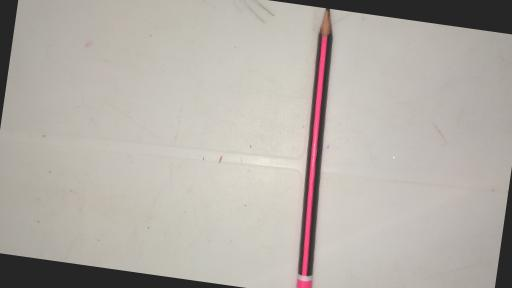Pencil: (280, 7, 352, 288)
